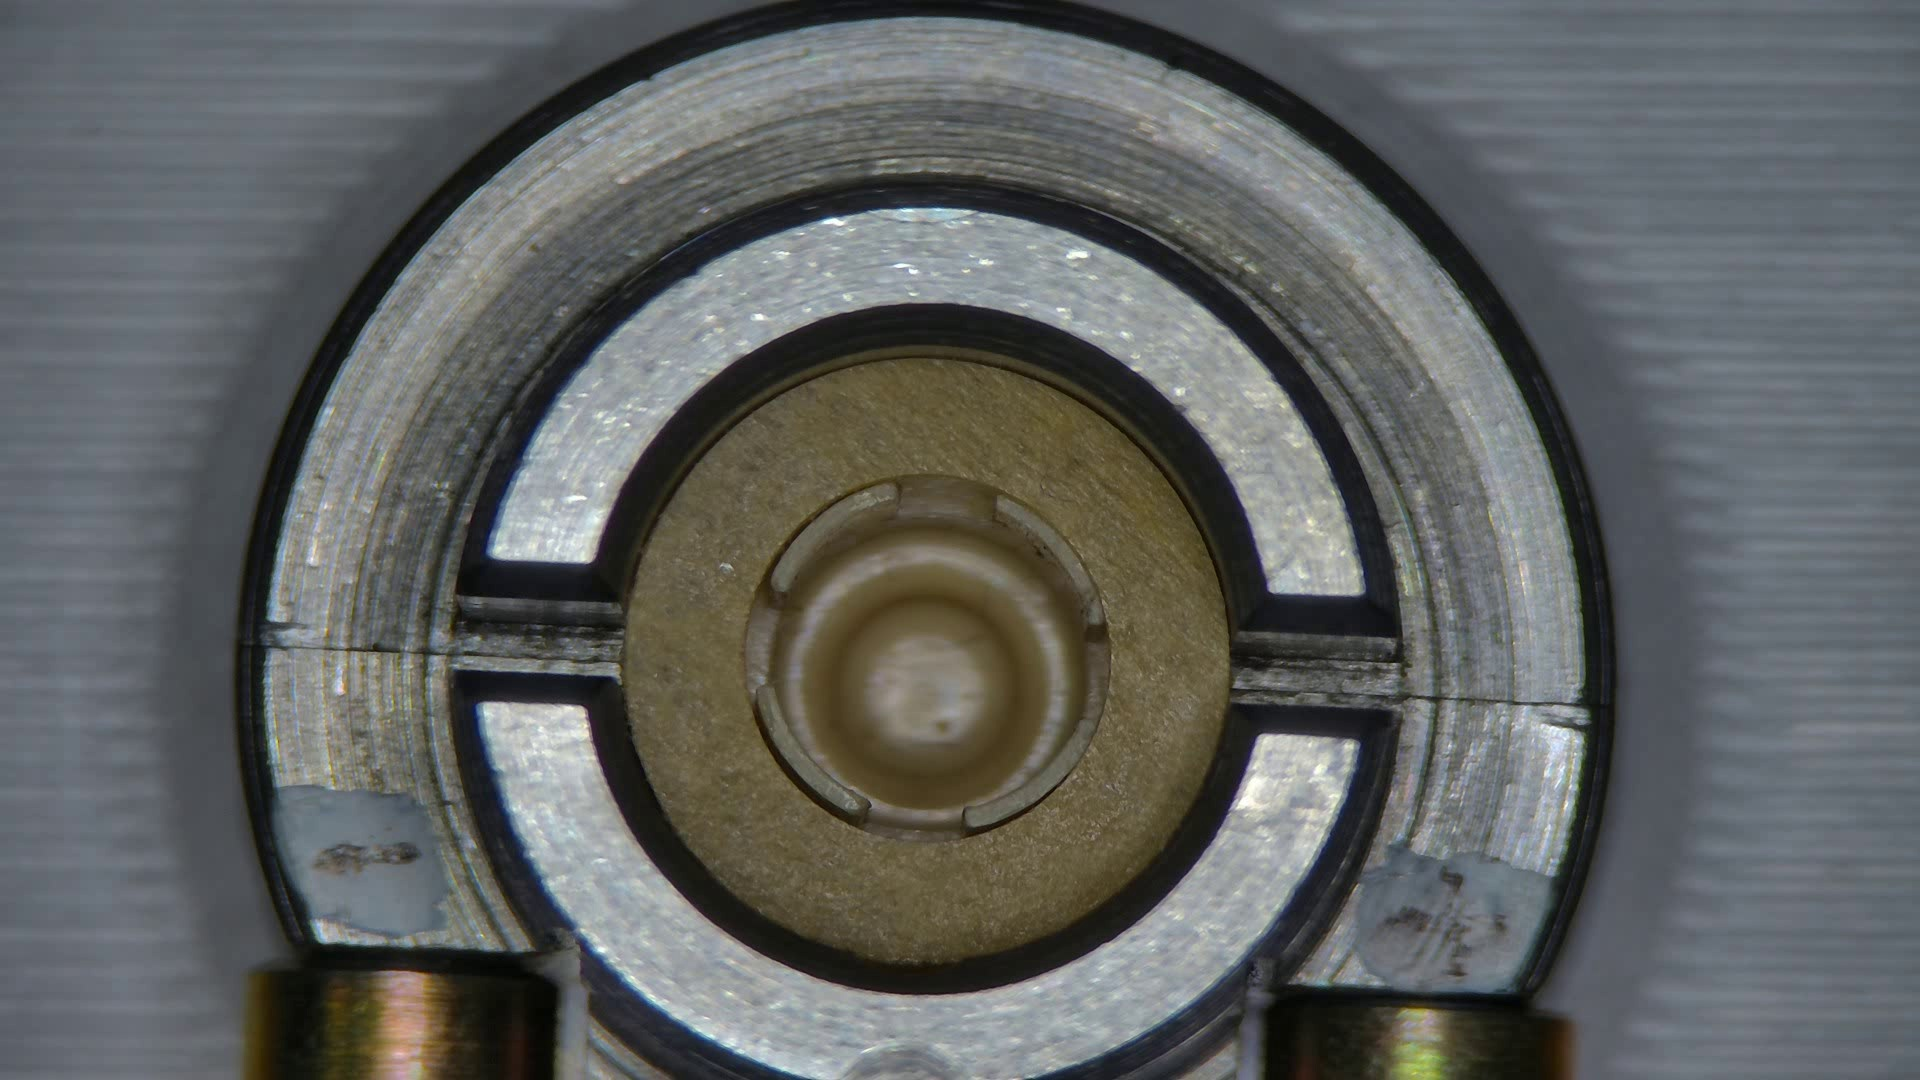redOring: (625, 355, 1229, 963)
